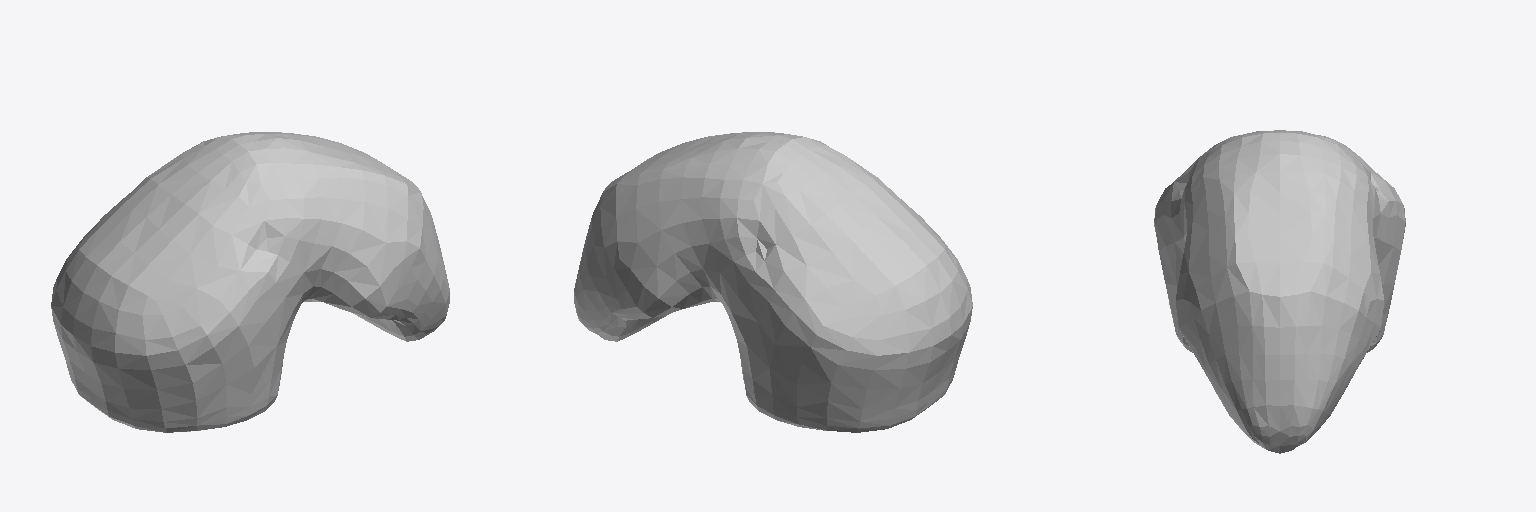
File: wonderhead.OBJ
The picture shows the model from 3 angles: view 1: azimuth 30°, elevation 25°; view 2: azimuth 150°, elevation 25°; view 3: azimuth 270°, elevation 25°; orthographic projection.
Visible parts, largest first — view 1: Group38825; view 2: Group38825; view 3: Group38825.
Boxes of the visible parts, x1,y1,x2,y2 form: Group38825: [51, 132, 449, 432]; Group38825: [574, 132, 972, 432]; Group38825: [1154, 130, 1405, 453].
Size of the model in its own units: 16.79 by 10.09 by 9.99.